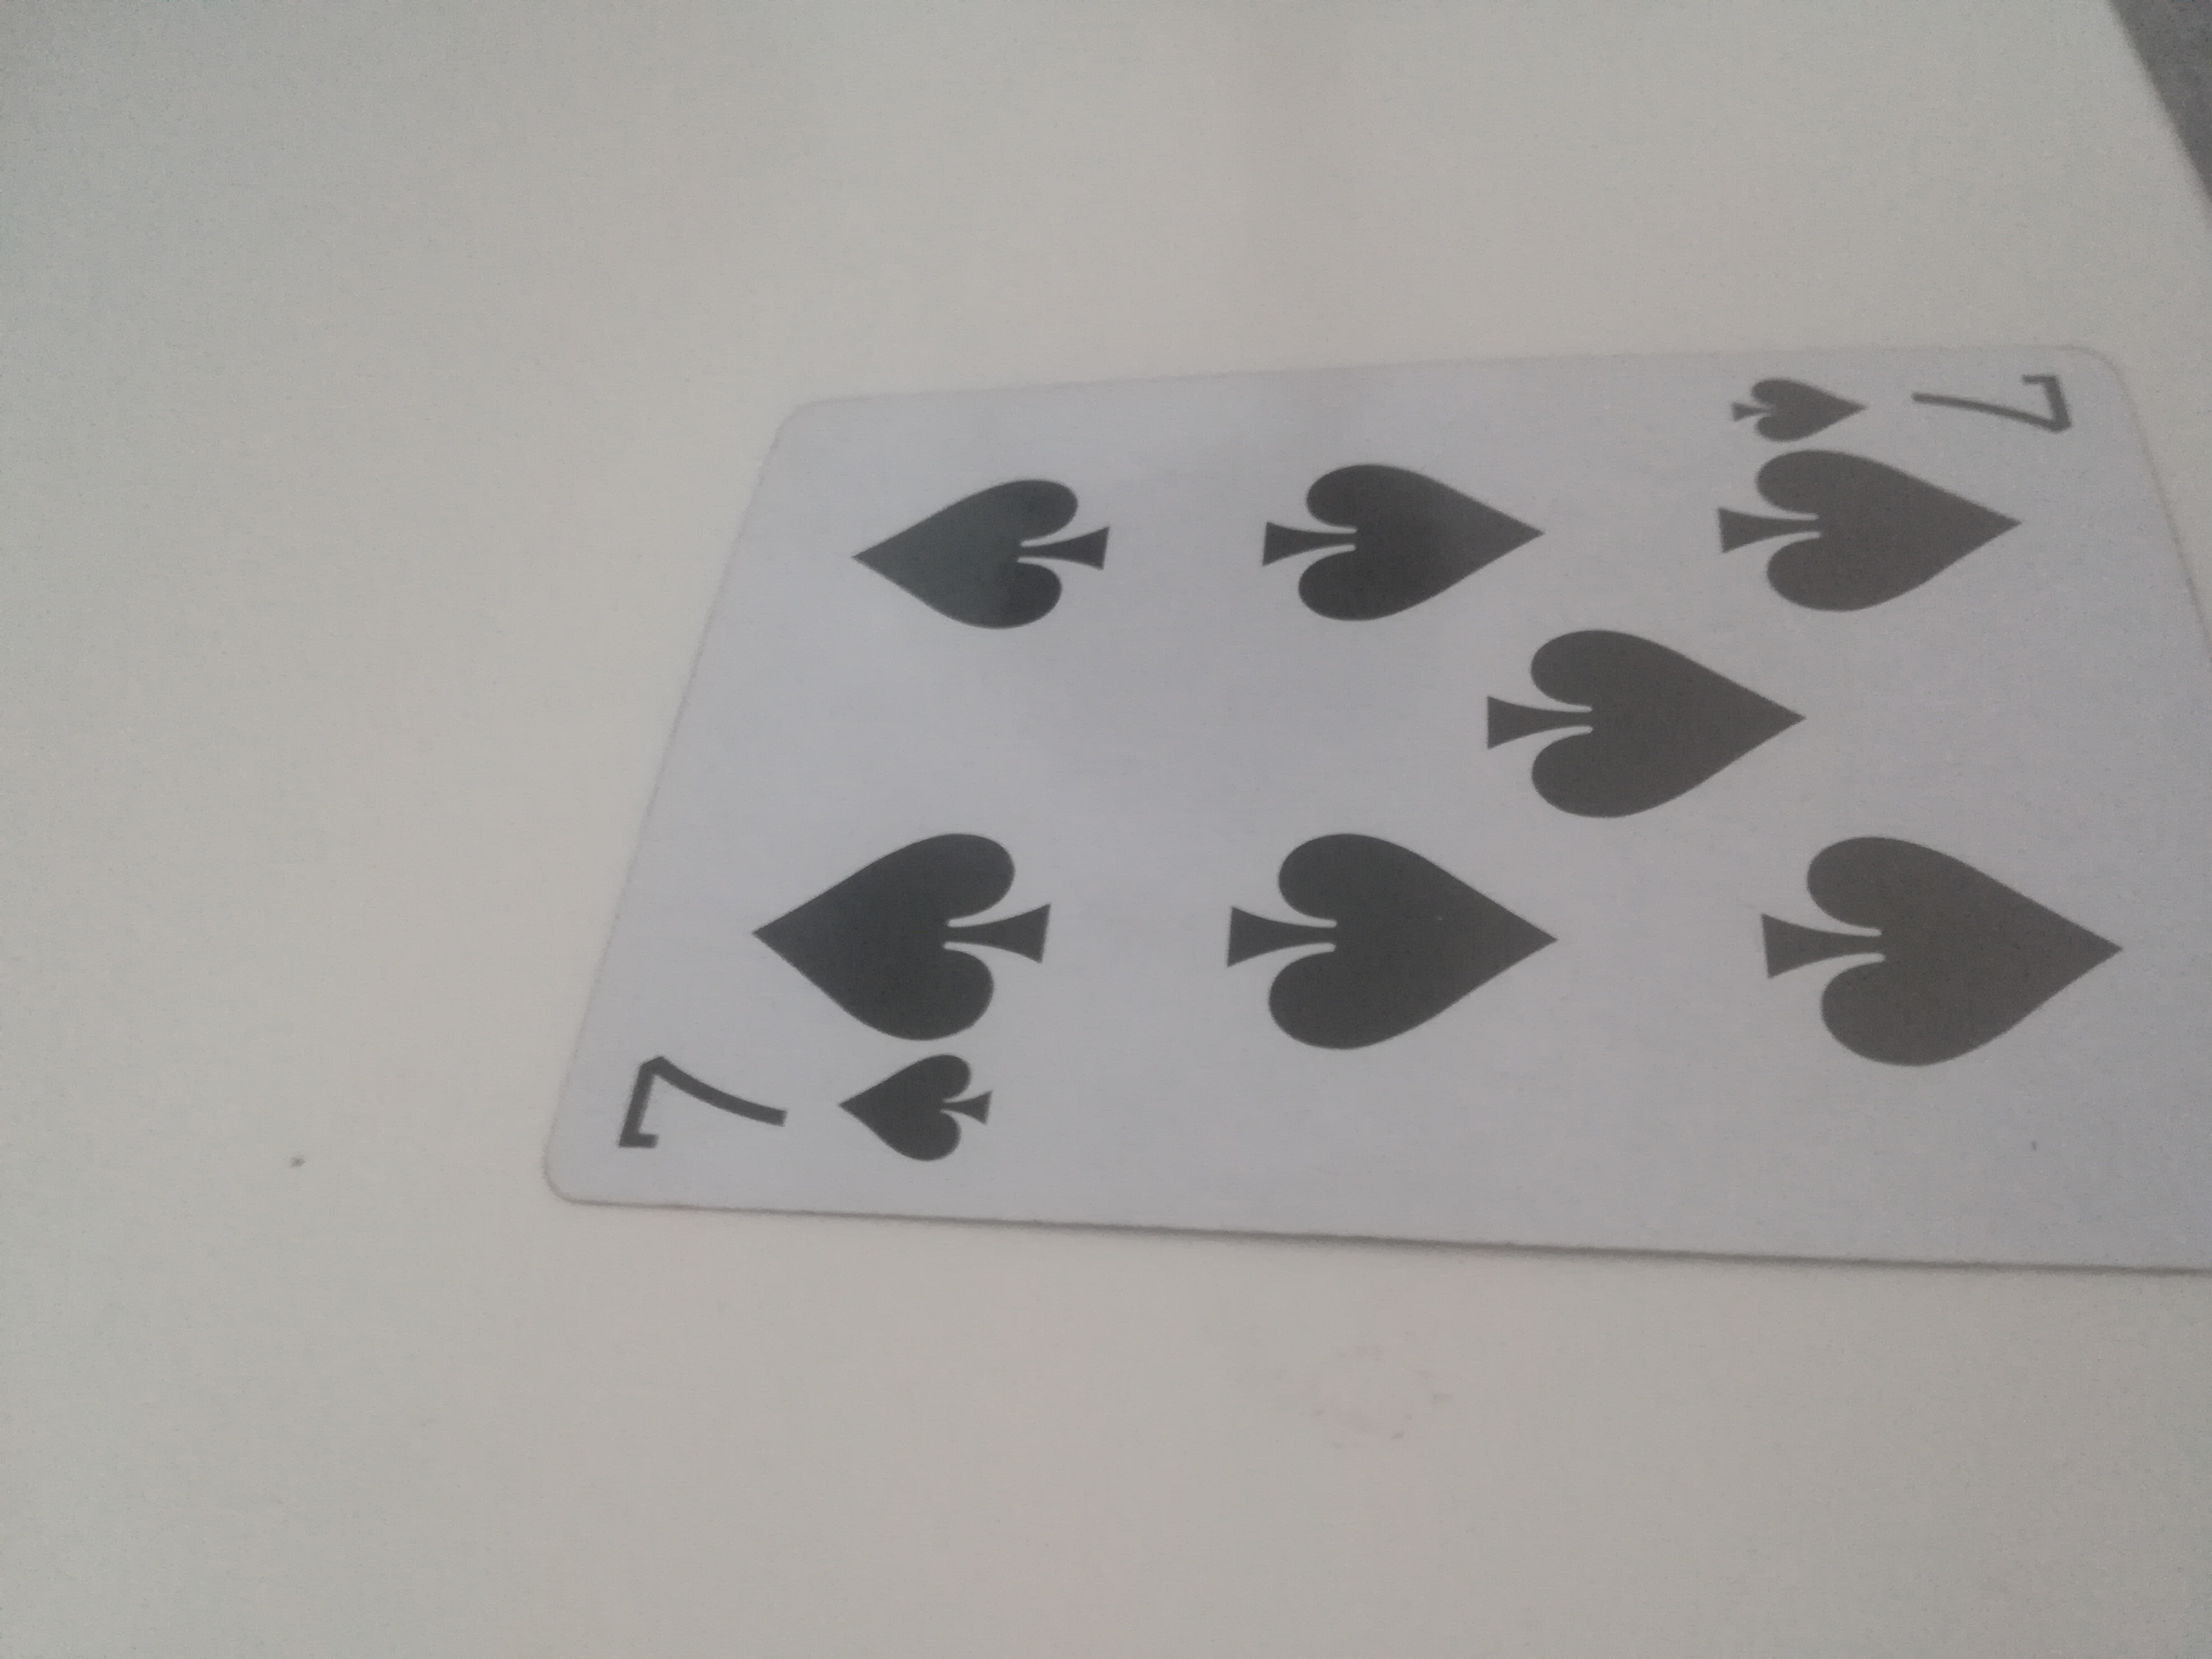7S: (547, 335, 2212, 1279)
